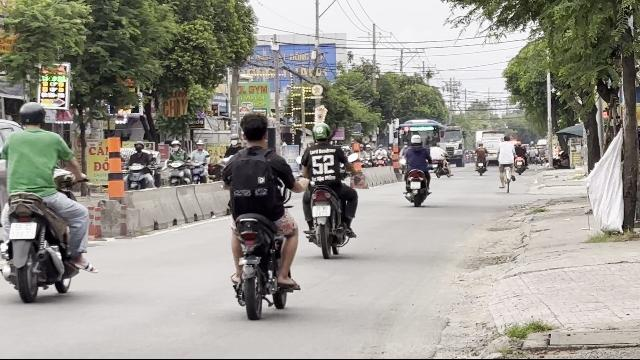helmet: (18, 100, 46, 127), (311, 122, 331, 142)
licenseplate: (9, 222, 37, 238), (312, 206, 331, 218)
motorcyclist: (0, 99, 94, 302), (220, 111, 302, 321), (299, 121, 359, 257)
nohelmet: (238, 113, 270, 149)
